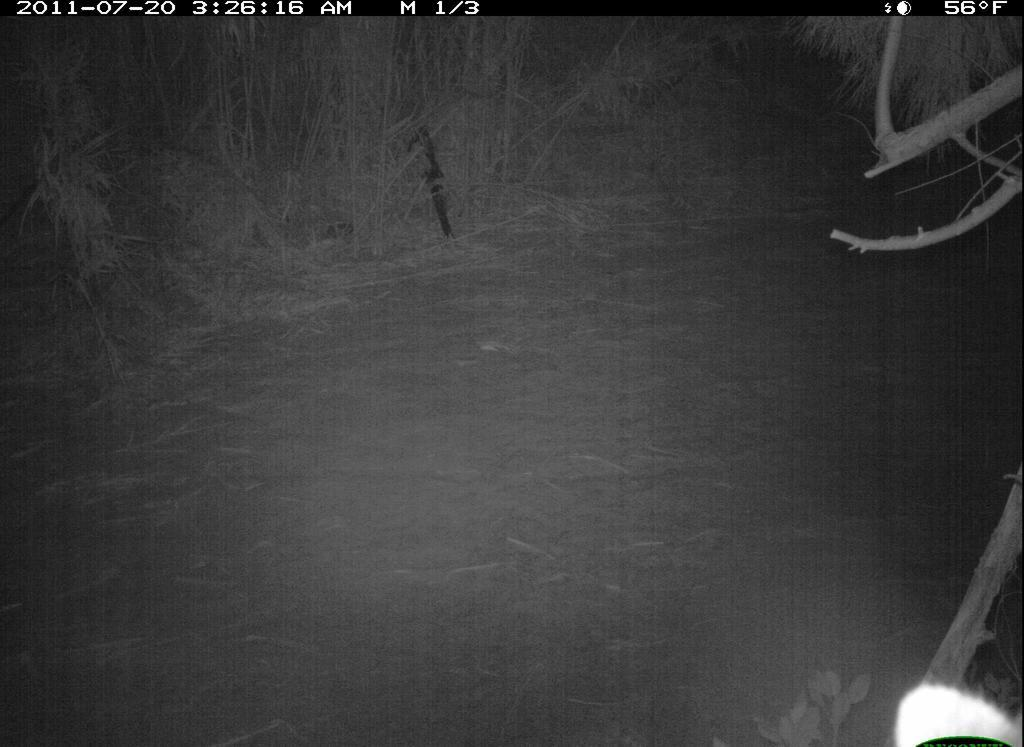raccoon: (891, 666, 1021, 745)
